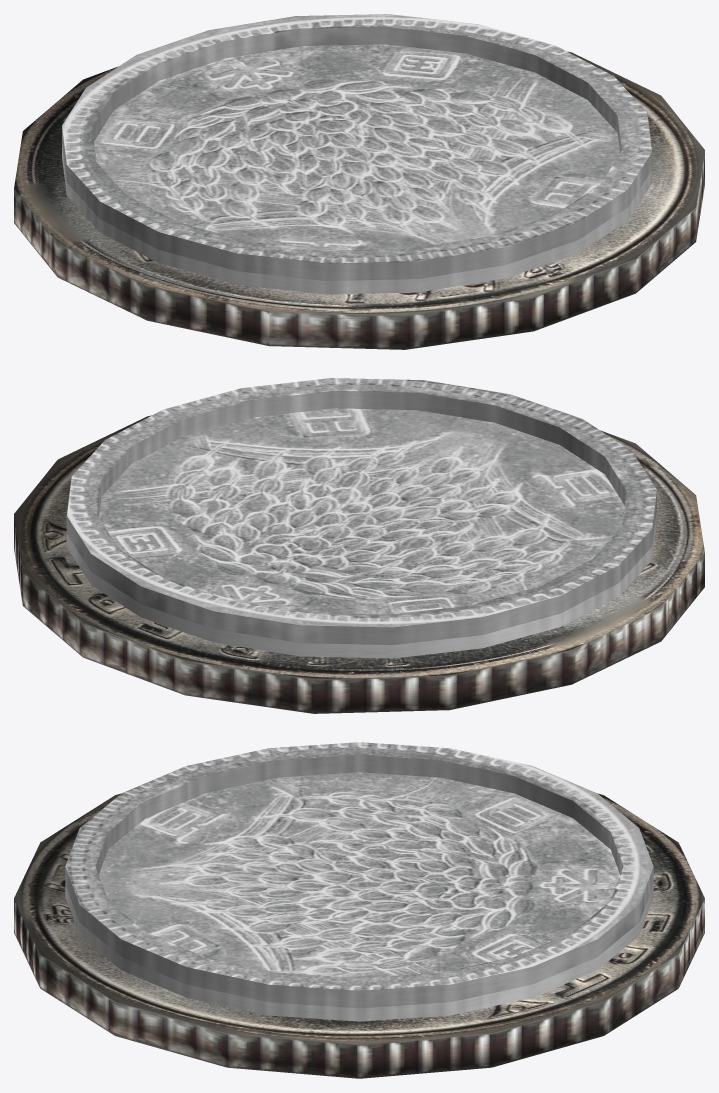
File: coins.glb
3 views of the same model, one above another, from view 1: azimuth 30°, elevation 25°; view 2: azimuth 150°, elevation 25°; view 3: azimuth 270°, elevation 25° (orthographic).
Visible parts, largest first — view 1: Object_2, dollar; view 2: Object_2, dollar; view 3: Object_2, dollar.
Part boxes in pixels (x1,y1,x2,y2): Object_2: [62, 14, 652, 294]; dollar: [14, 51, 704, 349]; Object_2: [66, 378, 656, 658]; dollar: [14, 415, 704, 713]; Object_2: [65, 742, 653, 1021]; dollar: [14, 793, 704, 1078].
Bounding box in the file's own units: 0.621 × 0.0646 × 0.621.
Materials: 3 (3 with a texture image).
